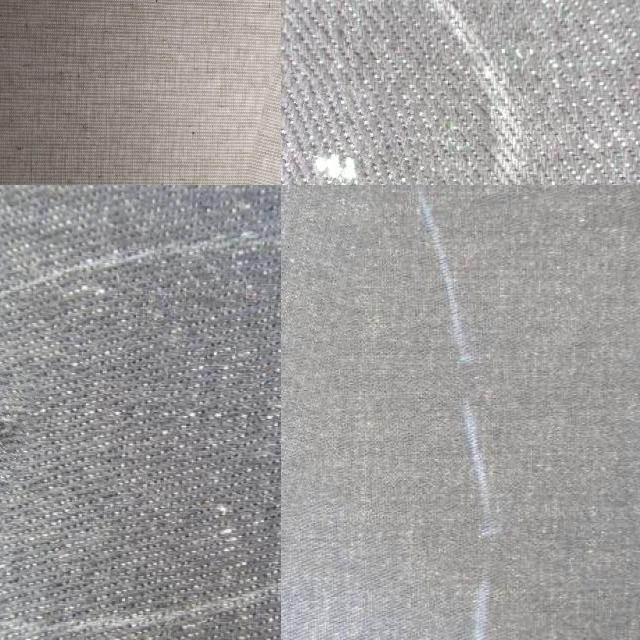stains: (281, 185, 368, 640), (281, 78, 435, 185), (203, 0, 281, 185), (0, 352, 33, 502)
